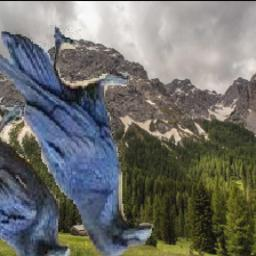Crow: (0, 25, 155, 256)
